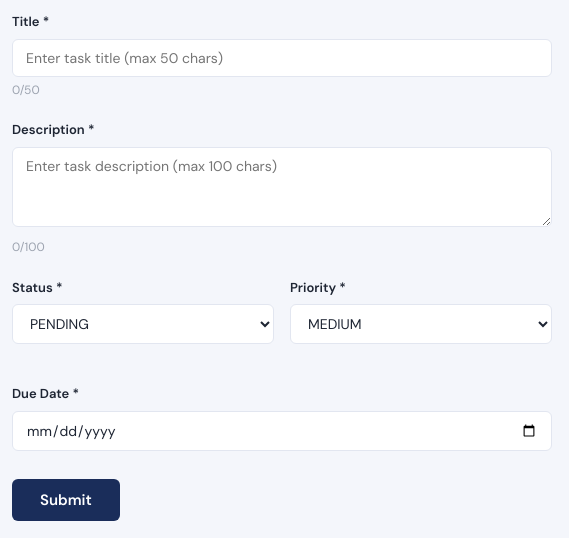
Test: TaskForm — form validation › shows character counter for description
Type "Test desc" into the text box with placeholder "Enter task description (max 100 chars)" at (282, 187), box [12, 147, 552, 227]
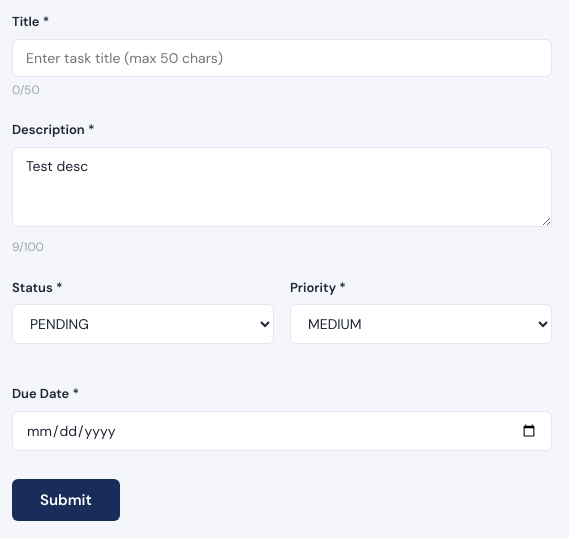
expect the text "9/100" is shown: met, box [12, 239, 44, 255]
